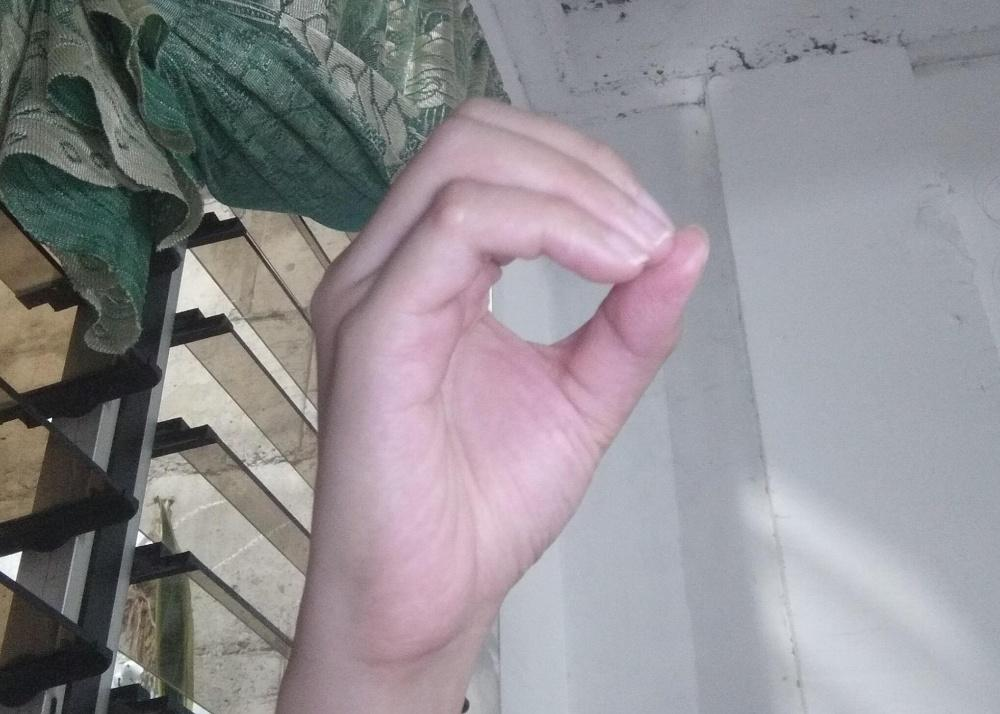o: (307, 91, 713, 661)
